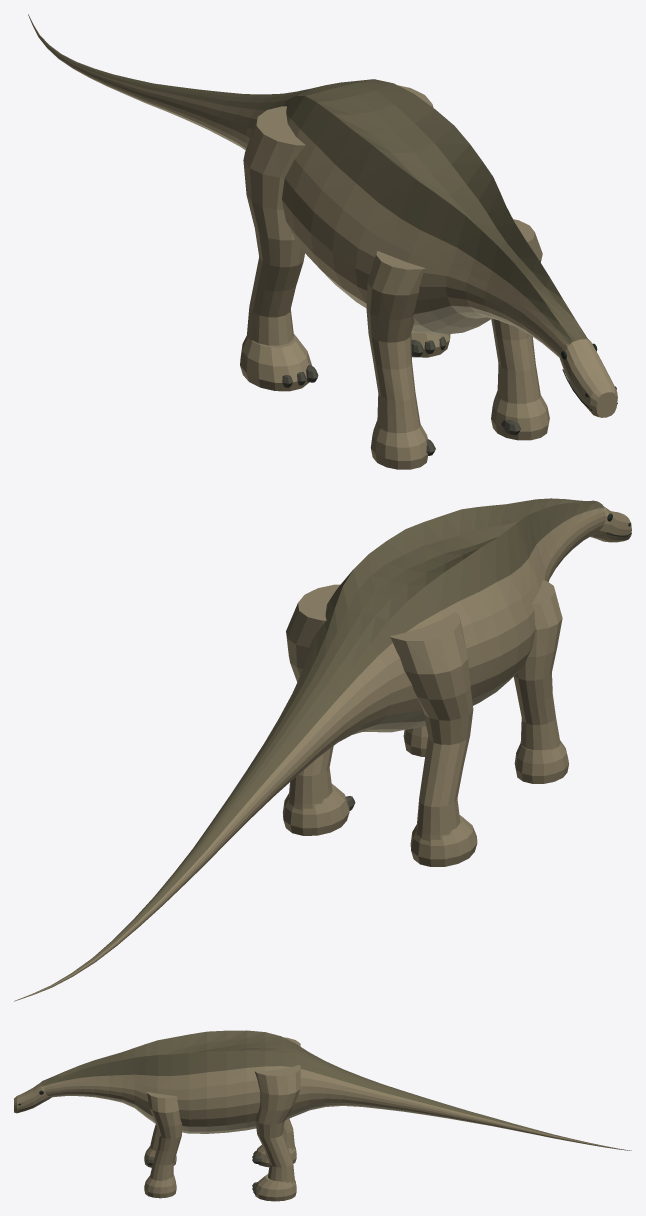
3 views of the same model, one above another, from view 1: azimuth 30°, elevation 25°; view 2: azimuth 150°, elevation 25°; view 3: azimuth 270°, elevation 25° (orthographic). The views are drawn at different scales.
Parts seen in each view (by area): view 1: Short_neck_paired_flesh_ridges_trunk_complete_tail, Four_pillar_limbs_hind_pair_longer, Four_grounded_fleshy_feet, Small_elongate_blunt_head, Restricted_inner_toe_and_thumb_claws; view 2: Short_neck_paired_flesh_ridges_trunk_complete_tail, Four_pillar_limbs_hind_pair_longer, Four_grounded_fleshy_feet, Small_elongate_blunt_head; view 3: Short_neck_paired_flesh_ridges_trunk_complete_tail, Four_pillar_limbs_hind_pair_longer, Four_grounded_fleshy_feet, Small_elongate_blunt_head.
Boxes of the visible parts, bbox=[...] form: Short_neck_paired_flesh_ridges_trunk_complete_tail: bbox=[28, 14, 588, 357]; Four_pillar_limbs_hind_pair_longer: bbox=[243, 85, 542, 433]; Four_grounded_fleshy_feet: bbox=[240, 330, 549, 469]; Small_elongate_blunt_head: bbox=[559, 339, 617, 417]; Restricted_inner_toe_and_thumb_claws: bbox=[282, 336, 520, 455]; Short_neck_paired_flesh_ridges_trunk_complete_tail: bbox=[14, 498, 605, 1001]; Four_pillar_limbs_hind_pair_longer: bbox=[286, 580, 562, 841]; Four_grounded_fleshy_feet: bbox=[282, 726, 568, 866]; Small_elongate_blunt_head: bbox=[590, 507, 631, 542]; Short_neck_paired_flesh_ridges_trunk_complete_tail: bbox=[41, 1030, 631, 1150]; Four_pillar_limbs_hind_pair_longer: bbox=[147, 1037, 300, 1183]; Four_grounded_fleshy_feet: bbox=[144, 1145, 296, 1201]; Small_elongate_blunt_head: bbox=[14, 1082, 51, 1113].
Bounding box in the file's own units: 2.4 × 3.19 × 13.
